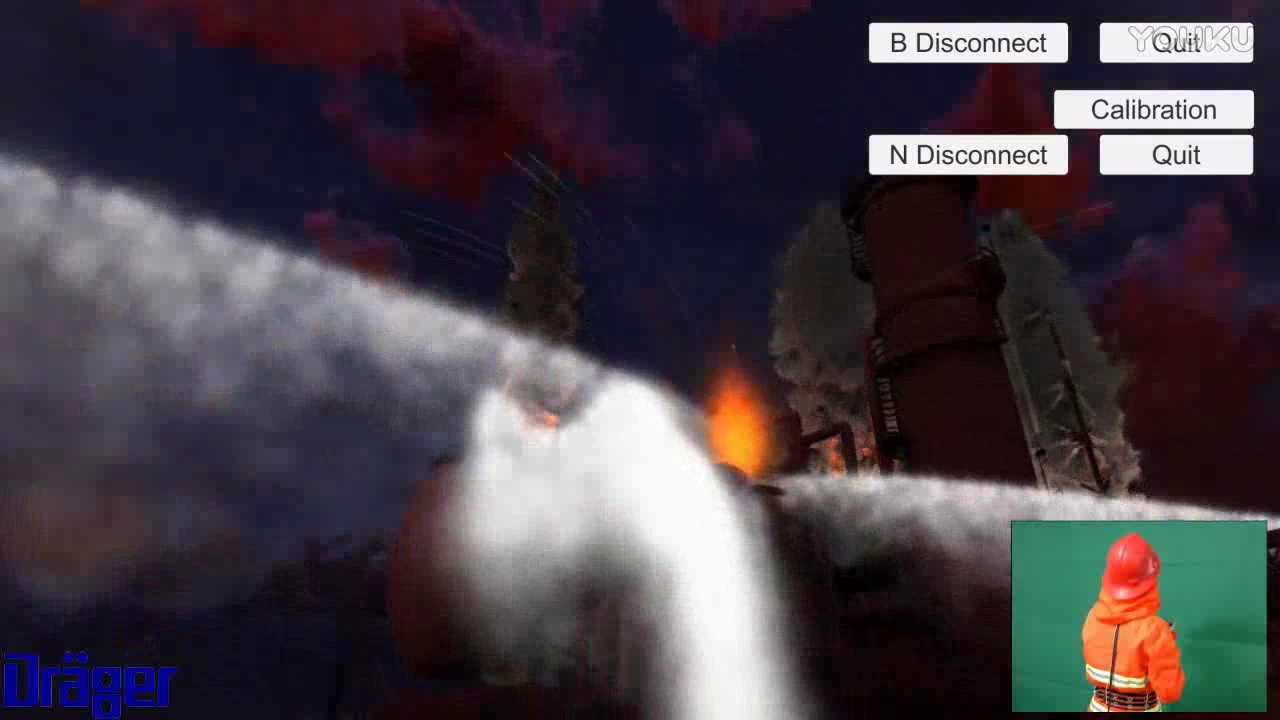fire: (706, 355, 774, 484)
